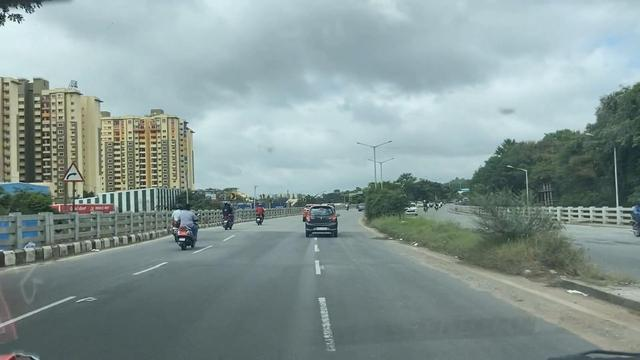LMV: (306, 203, 333, 233), (179, 207, 197, 244), (219, 195, 235, 230)
RoadDamages: (371, 233, 391, 243), (256, 203, 262, 227)
